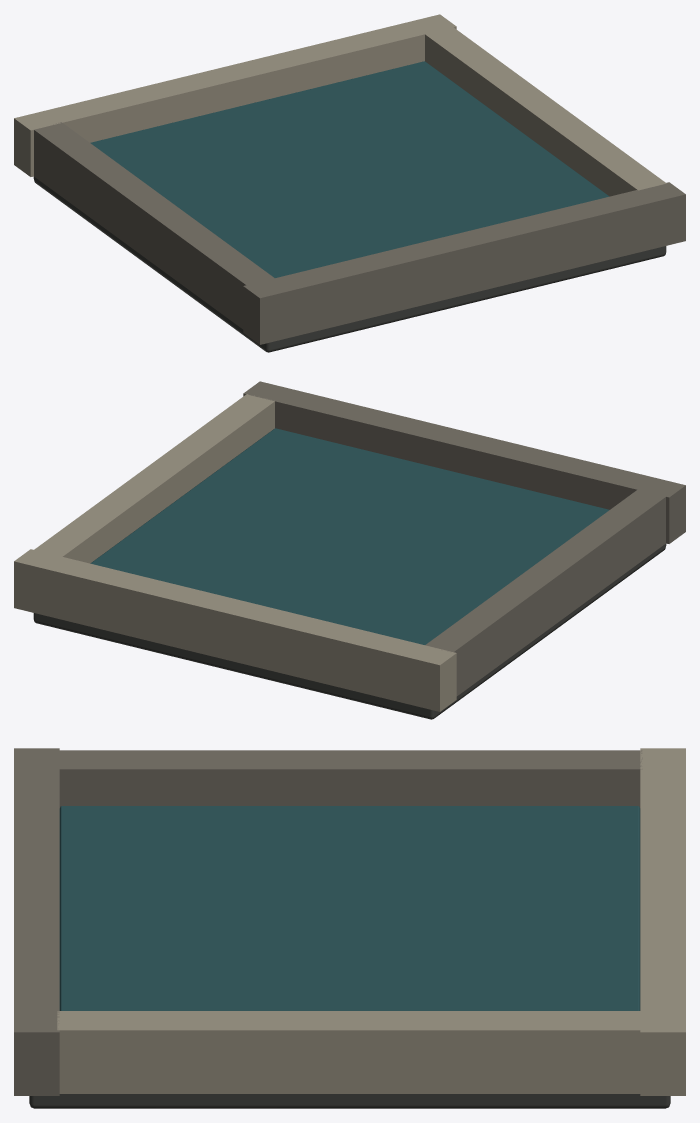
Rendered from holy_pool.glb.
The picture shows the model from 3 angles, top to bottom: view 1: azimuth 30°, elevation 25°; view 2: azimuth 150°, elevation 25°; view 3: azimuth 270°, elevation 25°; orthographic projection. The views are drawn at different scales.
Visible parts, largest first — view 1: holy_pool; view 2: holy_pool; view 3: holy_pool.
Part boxes in pixels (x1,y1,x2,y2): holy_pool: (14,14,685,352); holy_pool: (14,381,685,719); holy_pool: (14,748,685,1108).
Bounding box in the file's own units: 2.8 × 0.4 × 2.8.
Materials: 1 (1 with a texture image).
